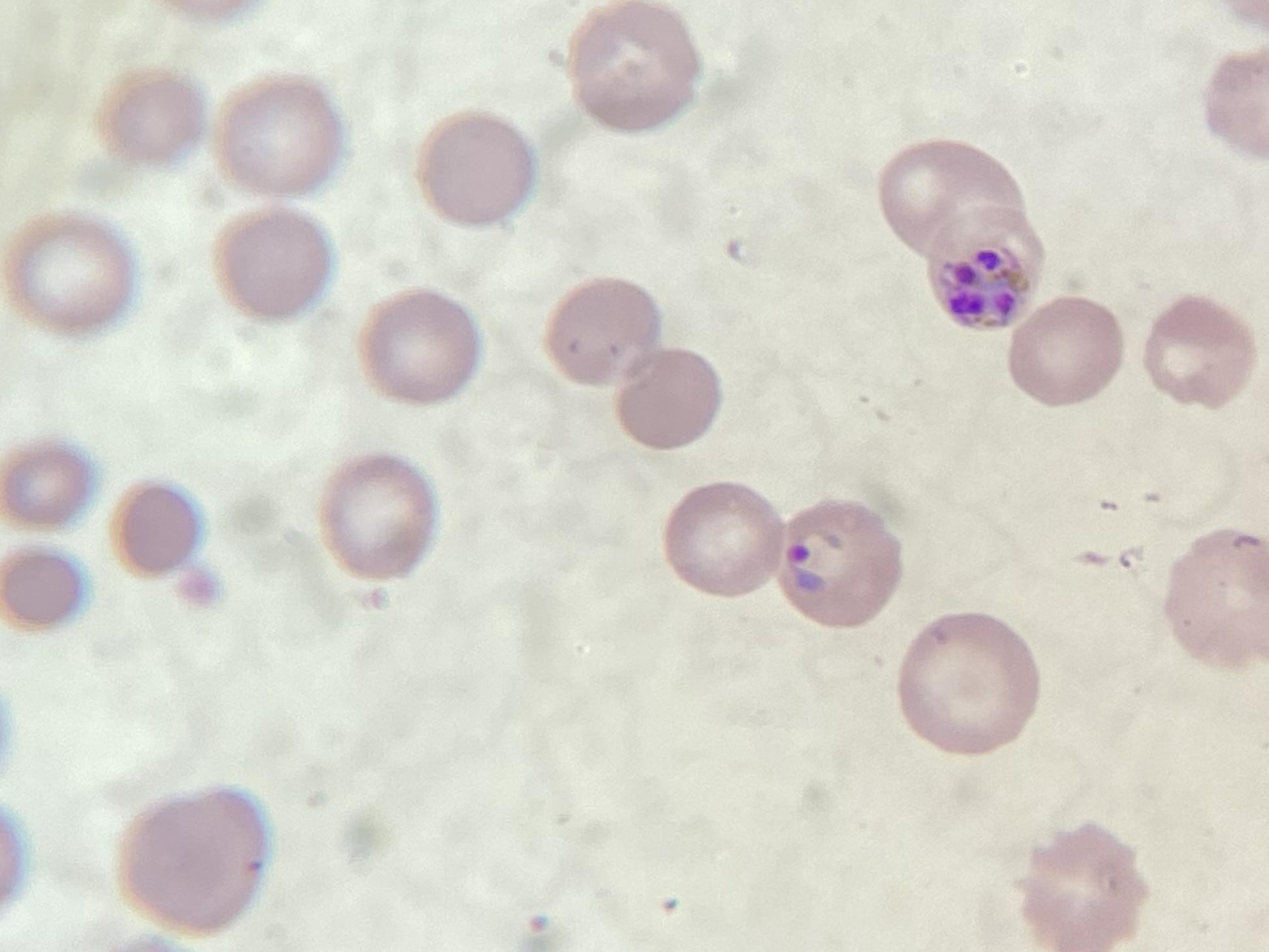Infected: (770, 497, 905, 630), (929, 201, 1044, 328)
Uninfected: (109, 791, 261, 934), (896, 606, 1037, 757), (570, 0, 698, 131), (0, 207, 133, 330), (1158, 521, 1269, 665), (1031, 819, 1147, 952), (218, 73, 345, 193), (877, 138, 1020, 243), (668, 475, 776, 606), (411, 114, 535, 221), (535, 277, 664, 378), (218, 207, 332, 321), (324, 456, 432, 576), (1140, 292, 1258, 401), (366, 290, 485, 398), (1007, 297, 1121, 399), (91, 64, 206, 160), (611, 349, 721, 444), (113, 480, 202, 572), (7, 443, 94, 530), (0, 547, 77, 630)
